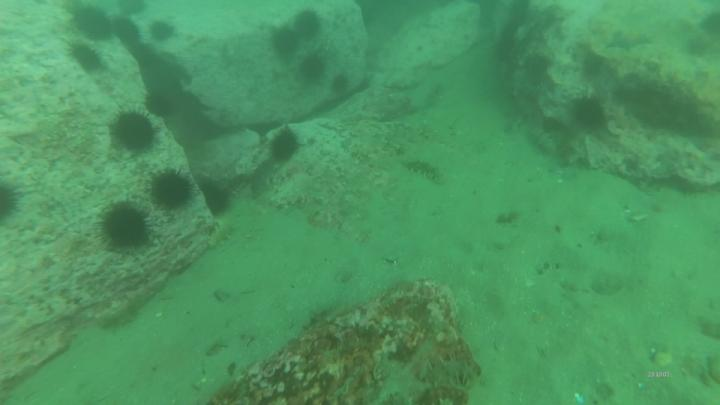echinus: (95, 200, 160, 257), (147, 167, 203, 216), (106, 104, 158, 154), (265, 122, 306, 169), (571, 91, 609, 134), (198, 173, 234, 218), (71, 6, 113, 42), (71, 44, 111, 73), (268, 28, 305, 59), (289, 10, 326, 41), (1, 181, 27, 222), (140, 89, 172, 119), (297, 53, 329, 81), (149, 20, 180, 44), (115, 1, 145, 19), (331, 72, 350, 96)
holothurian: (420, 356, 481, 392), (405, 159, 446, 187)
starfish: (611, 29, 656, 53)
